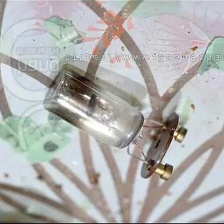light_bulb: (39, 61, 191, 186)
